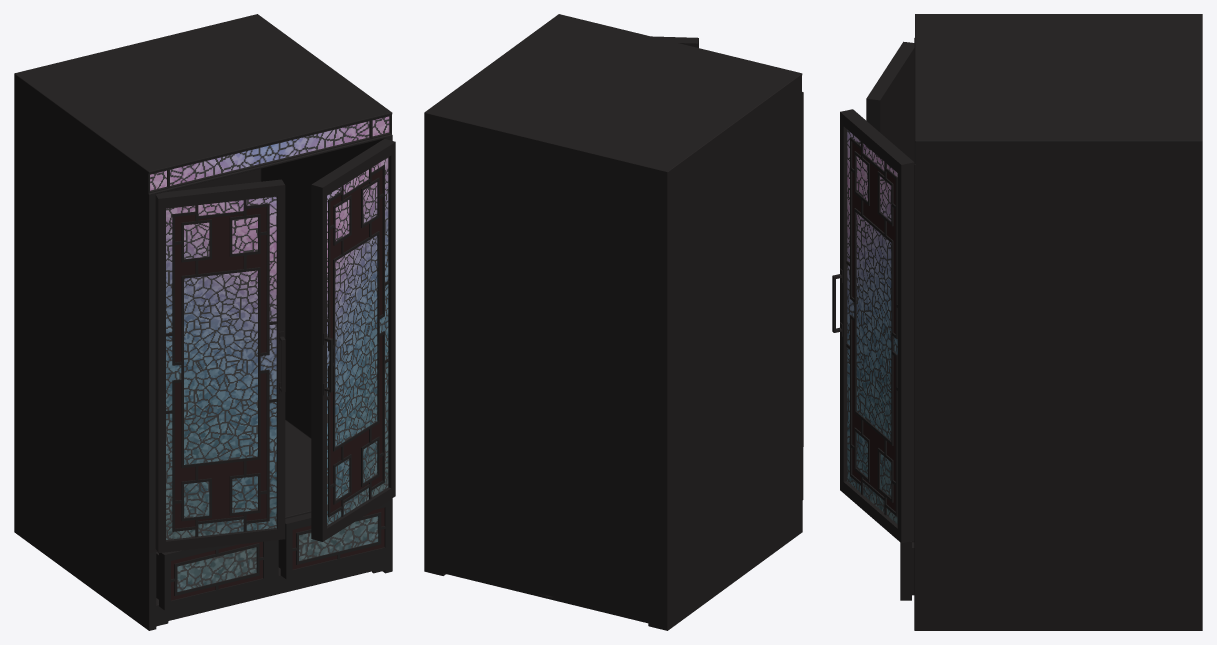
File: cabinet_Open.fbx
3 views of the same model, side by side, from view 1: azimuth 30°, elevation 25°; view 2: azimuth 150°, elevation 25°; view 3: azimuth 270°, elevation 25° (orthographic). The views are drawn at different scales.
Visible parts, largest first — view 1: cabinet_Main.001, cabinet_Door.001, cabinet.001; view 2: cabinet_Main.001, cabinet_Door.001; view 3: cabinet_Main.001, cabinet_Door.001, cabinet.001.
Boxes of the visible parts, bbox=[...] form: cabinet_Main.001: bbox=[14, 14, 392, 630]; cabinet_Door.001: bbox=[155, 138, 395, 553]; cabinet.001: bbox=[156, 499, 391, 610]; cabinet_Main.001: bbox=[424, 14, 802, 630]; cabinet_Door.001: bbox=[651, 36, 803, 446]; cabinet_Main.001: bbox=[914, 14, 1202, 630]; cabinet_Door.001: bbox=[832, 41, 914, 543]; cabinet.001: bbox=[900, 541, 914, 600].
Size of the model in its own units: 100 by 180 by 123.
1 material, 1 textured.
